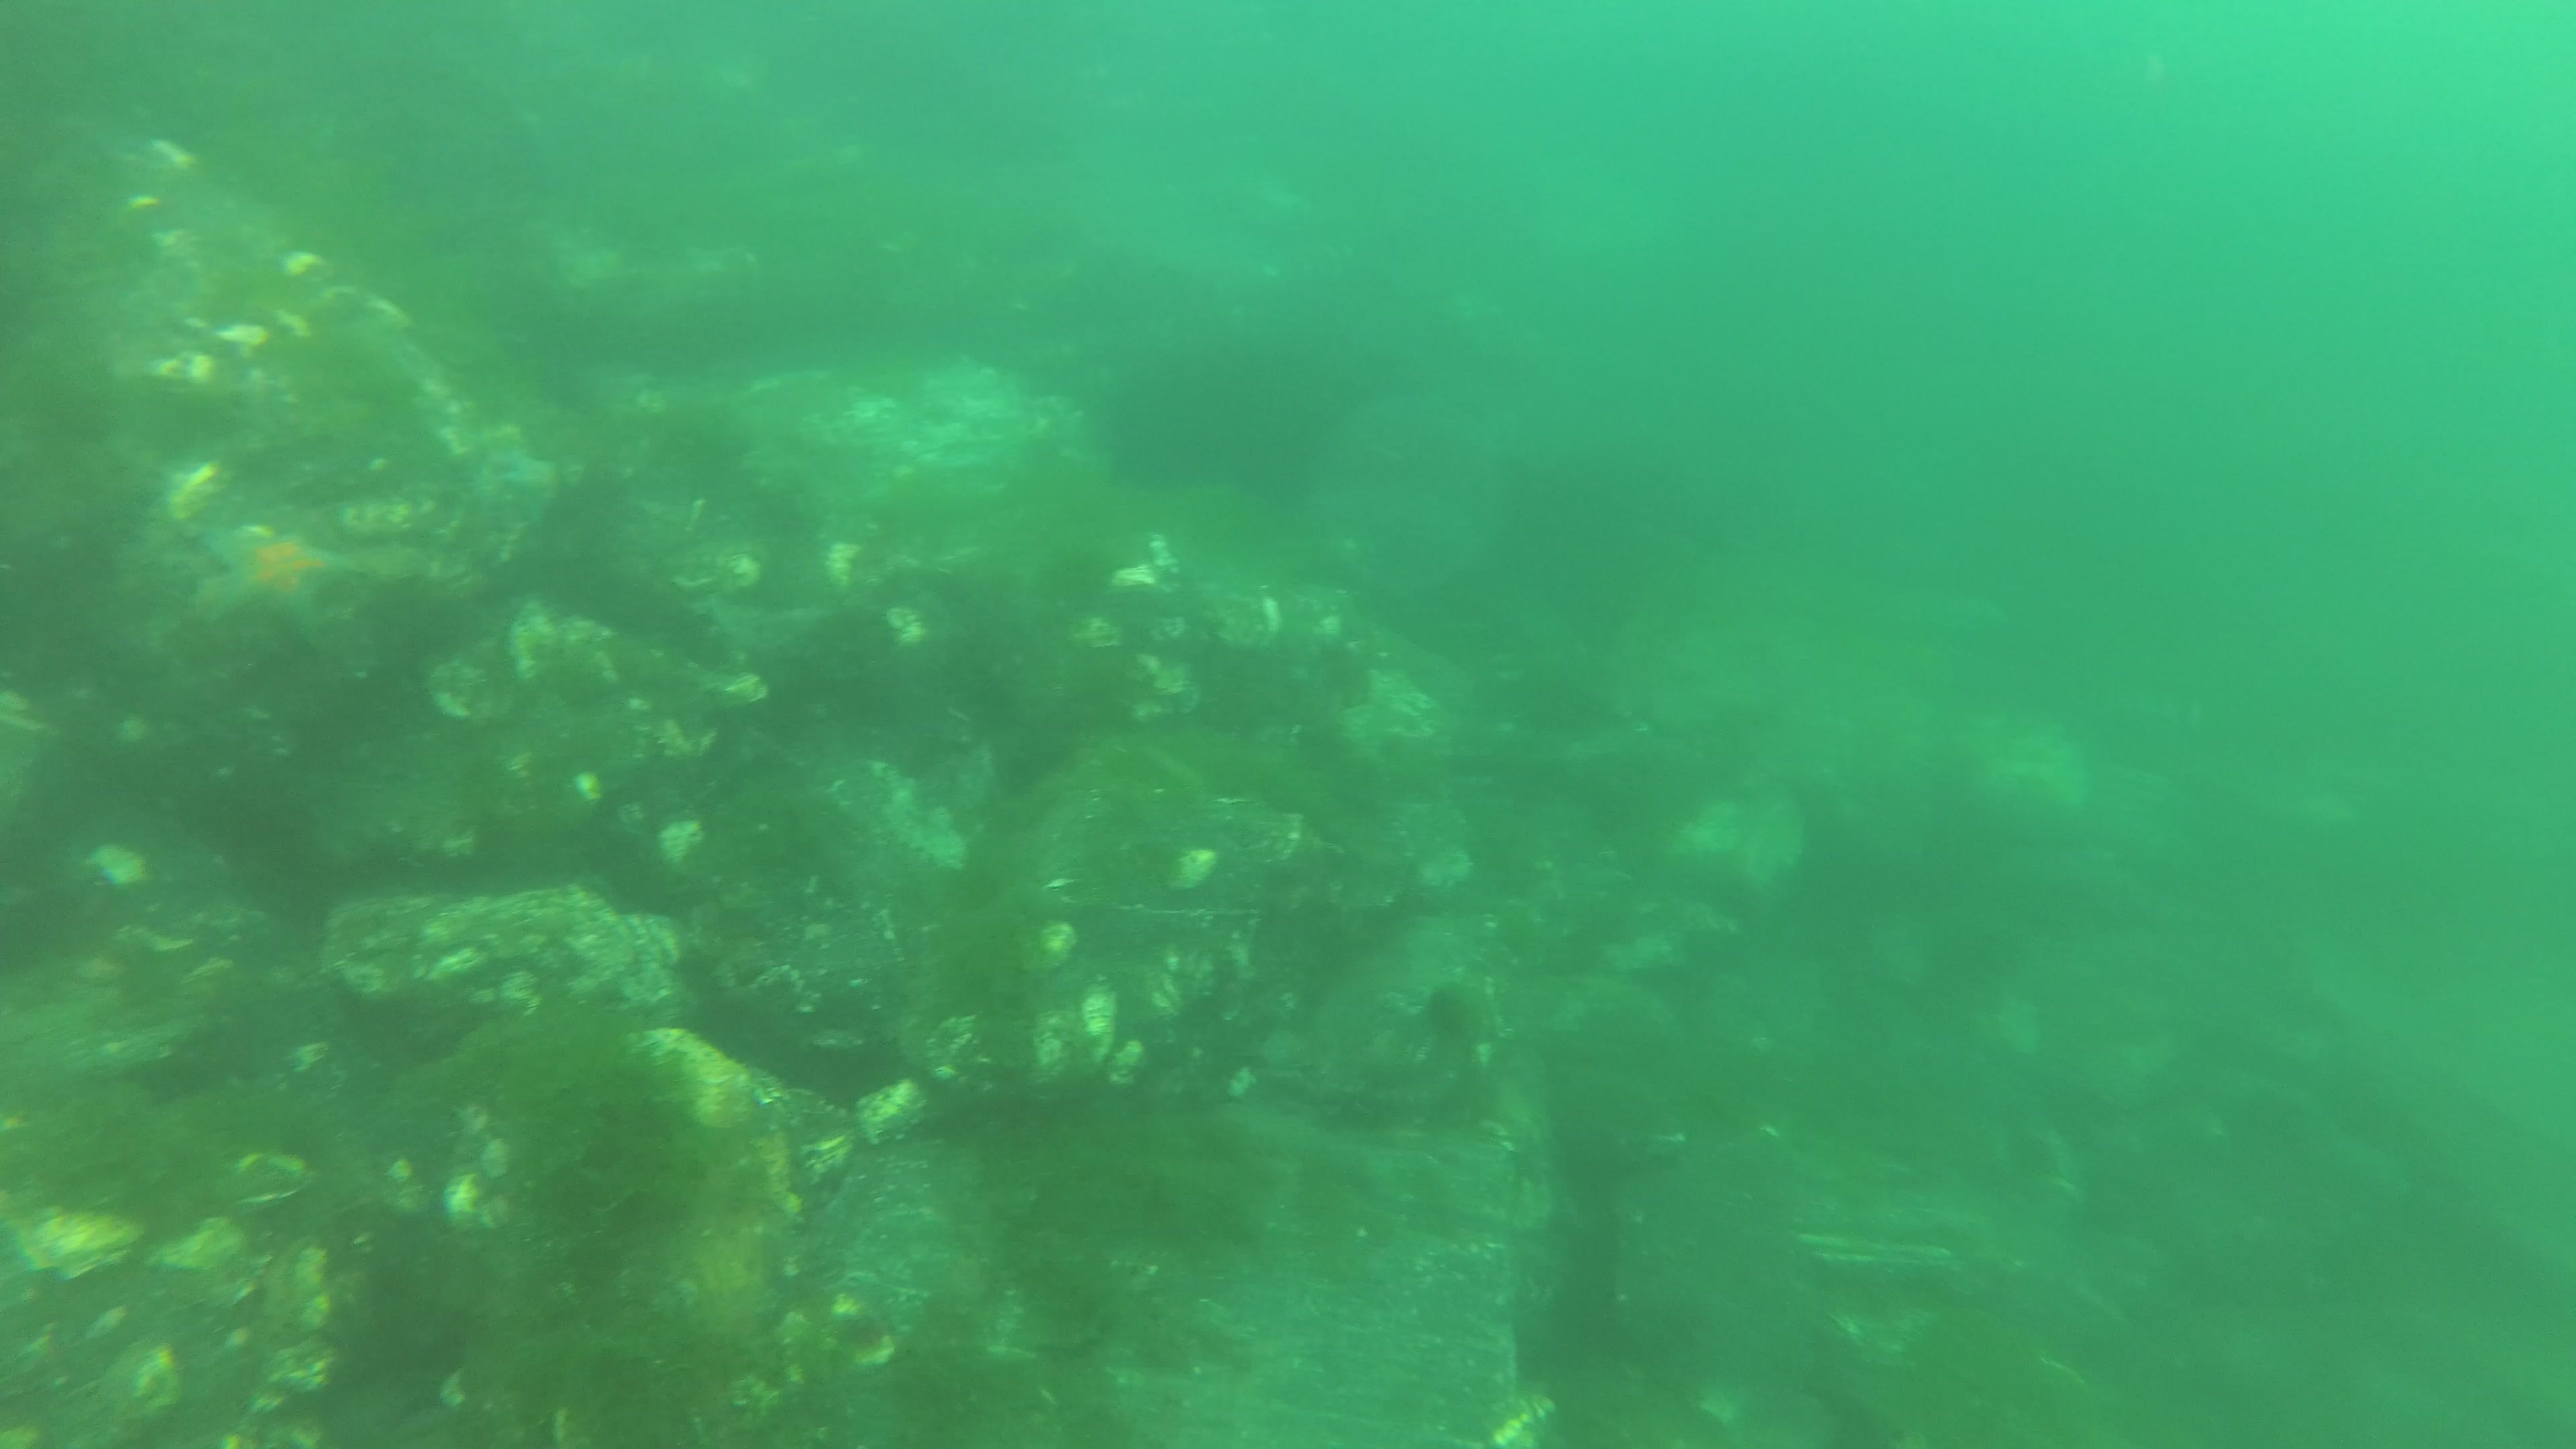starfish: (180, 511, 363, 640)
